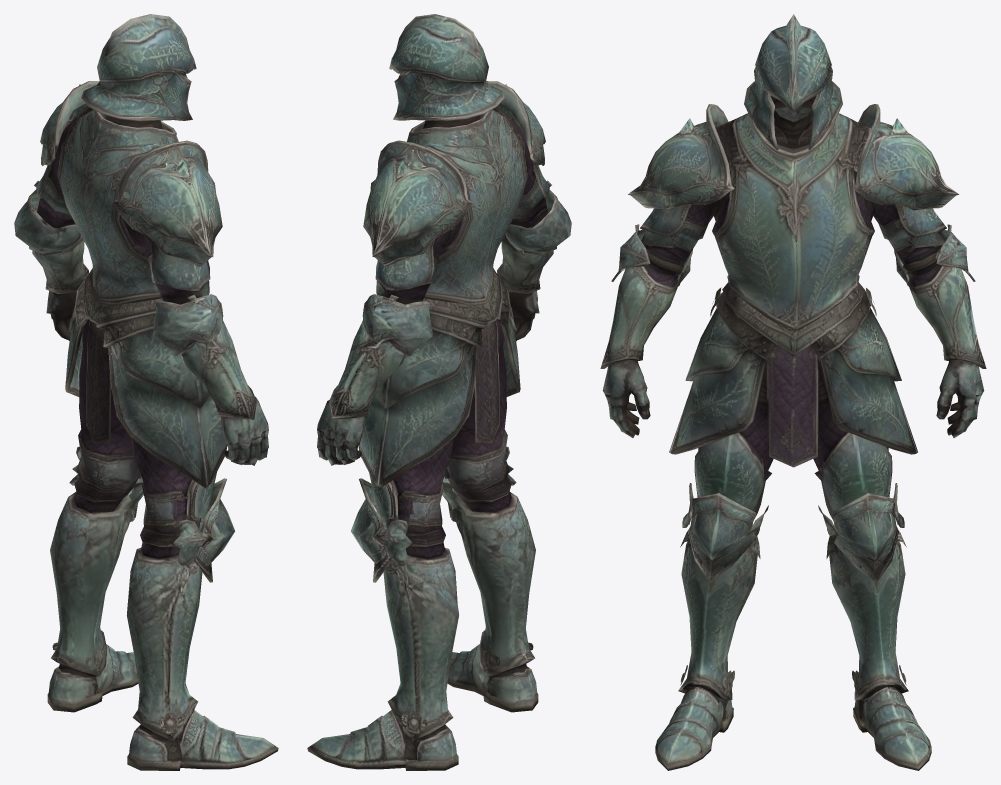
The model's file is dewglass.glb.
The picture shows the model from 3 angles, left to right: view 1: azimuth 30°, elevation 25°; view 2: azimuth 150°, elevation 25°; view 3: azimuth 270°, elevation 25°; orthographic projection.
Visible parts, largest first — view 1: tripo_part_2_Clone, tripo_part_6_Clone, tripo_part_7_Clone, tripo_part_0_Clone, tripo_part_10_Clone, tripo_part_3_Clone, tripo_part_9_Clone, tripo_part_8_Clone, tripo_part_12_Clone, tripo_part_18_Clone, tripo_part_13_Clone, tripo_part_1_Clone (+5 smaller); view 2: tripo_part_2_Clone, tripo_part_7_Clone, tripo_part_6_Clone, tripo_part_0_Clone, tripo_part_11_Clone, tripo_part_3_Clone, tripo_part_8_Clone, tripo_part_9_Clone, tripo_part_13_Clone, tripo_part_18_Clone, tripo_part_12_Clone, tripo_part_5_Clone (+5 smaller); view 3: tripo_part_2_Clone, tripo_part_7_Clone, tripo_part_6_Clone, tripo_part_8_Clone, tripo_part_9_Clone, tripo_part_3_Clone, tripo_part_11_Clone, tripo_part_10_Clone, tripo_part_18_Clone, tripo_part_15_Clone, tripo_part_14_Clone, tripo_part_21_Clone (+6 smaller).
Part boxes in pixels (x1,y1,x2,y2): tripo_part_2_Clone: [57, 106, 227, 487]; tripo_part_6_Clone: [127, 529, 278, 770]; tripo_part_7_Clone: [47, 490, 138, 712]; tripo_part_0_Clone: [74, 320, 201, 559]; tripo_part_10_Clone: [113, 140, 222, 266]; tripo_part_3_Clone: [81, 14, 196, 121]; tripo_part_9_Clone: [123, 219, 256, 419]; tripo_part_8_Clone: [32, 116, 88, 293]; tripo_part_12_Clone: [153, 294, 223, 356]; tripo_part_18_Clone: [86, 320, 111, 442]; tripo_part_13_Clone: [14, 180, 80, 255]; tripo_part_1_Clone: [221, 396, 268, 465]; tripo_part_2_Clone: [358, 106, 528, 487]; tripo_part_7_Clone: [307, 529, 458, 770]; tripo_part_6_Clone: [447, 490, 538, 712]; tripo_part_0_Clone: [384, 320, 511, 559]; tripo_part_11_Clone: [363, 140, 472, 266]; tripo_part_3_Clone: [389, 14, 504, 121]; tripo_part_8_Clone: [329, 219, 462, 419]; tripo_part_9_Clone: [497, 116, 553, 293]; tripo_part_13_Clone: [362, 294, 432, 356]; tripo_part_18_Clone: [474, 320, 499, 442]; tripo_part_12_Clone: [505, 180, 571, 255]; tripo_part_5_Clone: [317, 400, 364, 465]; tripo_part_2_Clone: [669, 95, 917, 454]; tripo_part_7_Clone: [829, 534, 931, 770]; tripo_part_6_Clone: [655, 534, 757, 770]; tripo_part_8_Clone: [861, 196, 986, 368]; tripo_part_9_Clone: [600, 200, 717, 368]; tripo_part_3_Clone: [744, 14, 842, 149]; tripo_part_11_Clone: [852, 104, 958, 210]; tripo_part_10_Clone: [628, 104, 734, 210]; tripo_part_18_Clone: [768, 344, 818, 467]; tripo_part_15_Clone: [830, 493, 898, 582]; tripo_part_14_Clone: [688, 493, 756, 582]; tripo_part_21_Clone: [694, 432, 764, 511].
Size of the model in its own units: 0.1968 by 0.9995 by 0.4888.
Materials: 1 (1 with a texture image).
